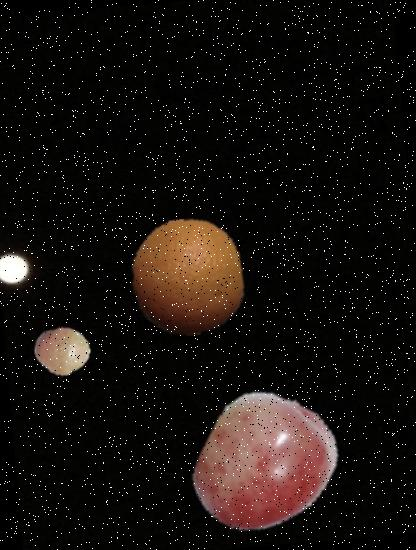Cherry: (187, 386, 345, 544)
Mandarine: (31, 320, 93, 382)
Orange: (124, 214, 252, 341)
